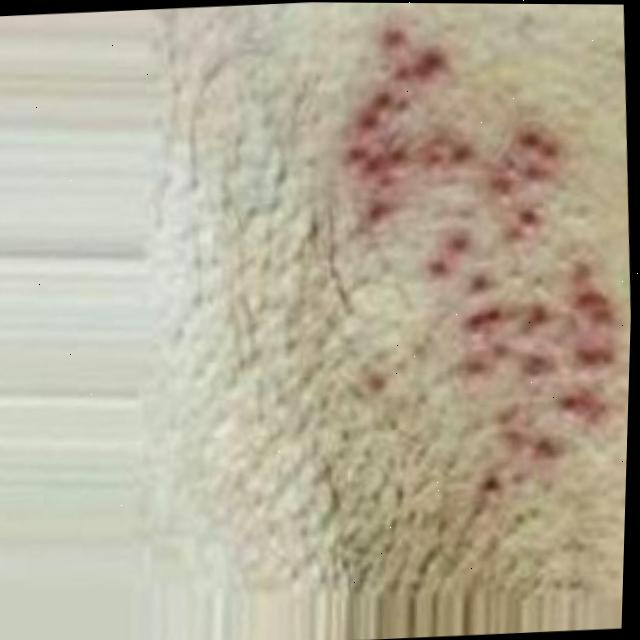Shingles: (331, 15, 640, 471)
